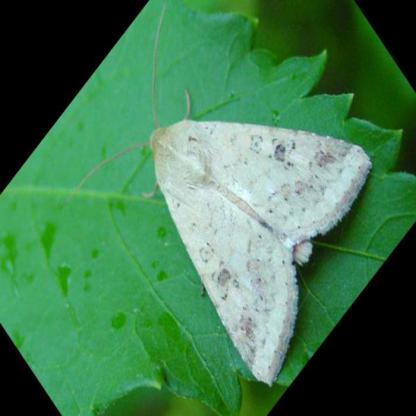helicoverpa: (149, 115, 370, 387)
